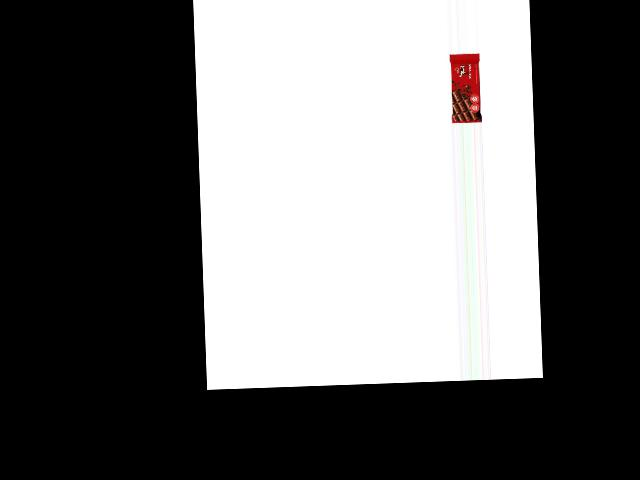chocolate: (449, 52, 482, 123)
